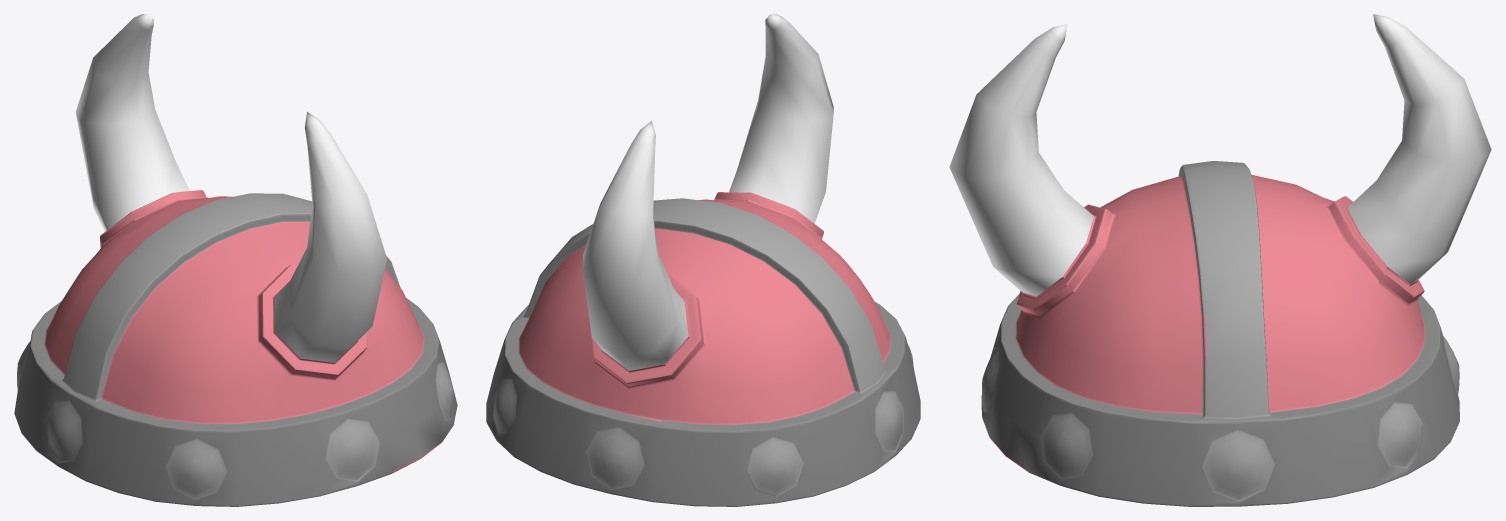
The model's file is Viking_Helmet_Final.fbx.
3 renders of one model, left to right at view 1: azimuth 30°, elevation 25°; view 2: azimuth 150°, elevation 25°; view 3: azimuth 270°, elevation 25°, orthographic. The views are drawn at different scales.
Visible parts, largest first — view 1: Helmet_Viking; view 2: Helmet_Viking; view 3: Helmet_Viking.
Boxes of the visible parts, <box> form: Helmet_Viking: <box>14,14,457,506</box>; Helmet_Viking: <box>486,14,920,506</box>; Helmet_Viking: <box>949,14,1491,506</box>.
Size of the model in its own units: 41.23 by 37.37 by 46.71.
